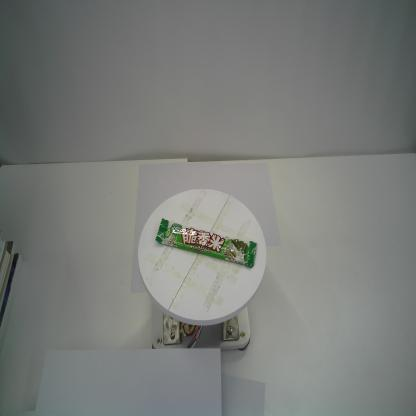Chocolate: (152, 214, 258, 270)
